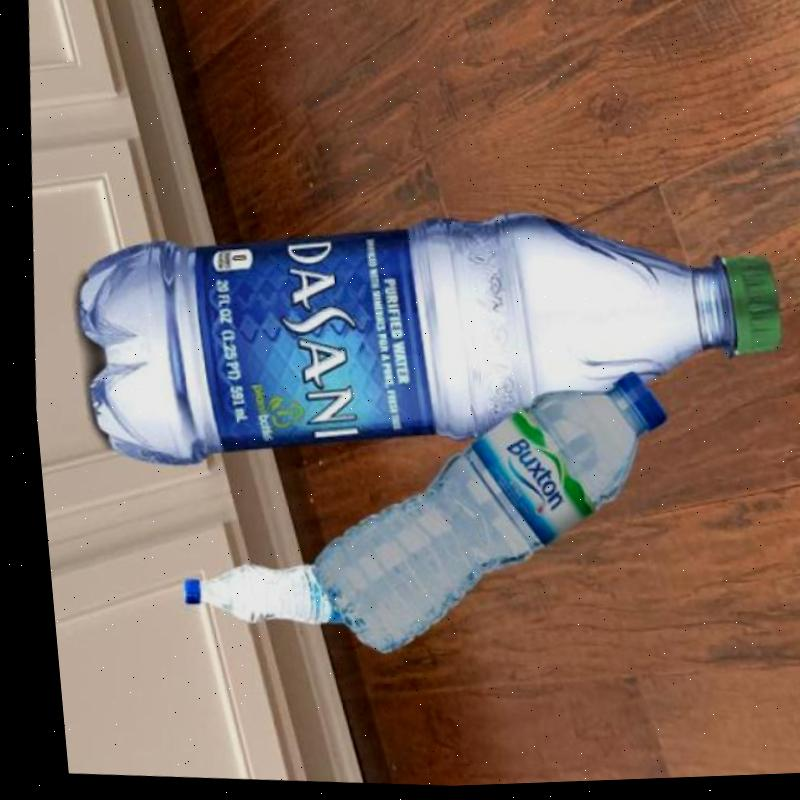botella: (51, 180, 790, 520), (282, 352, 674, 678), (165, 555, 334, 631)
